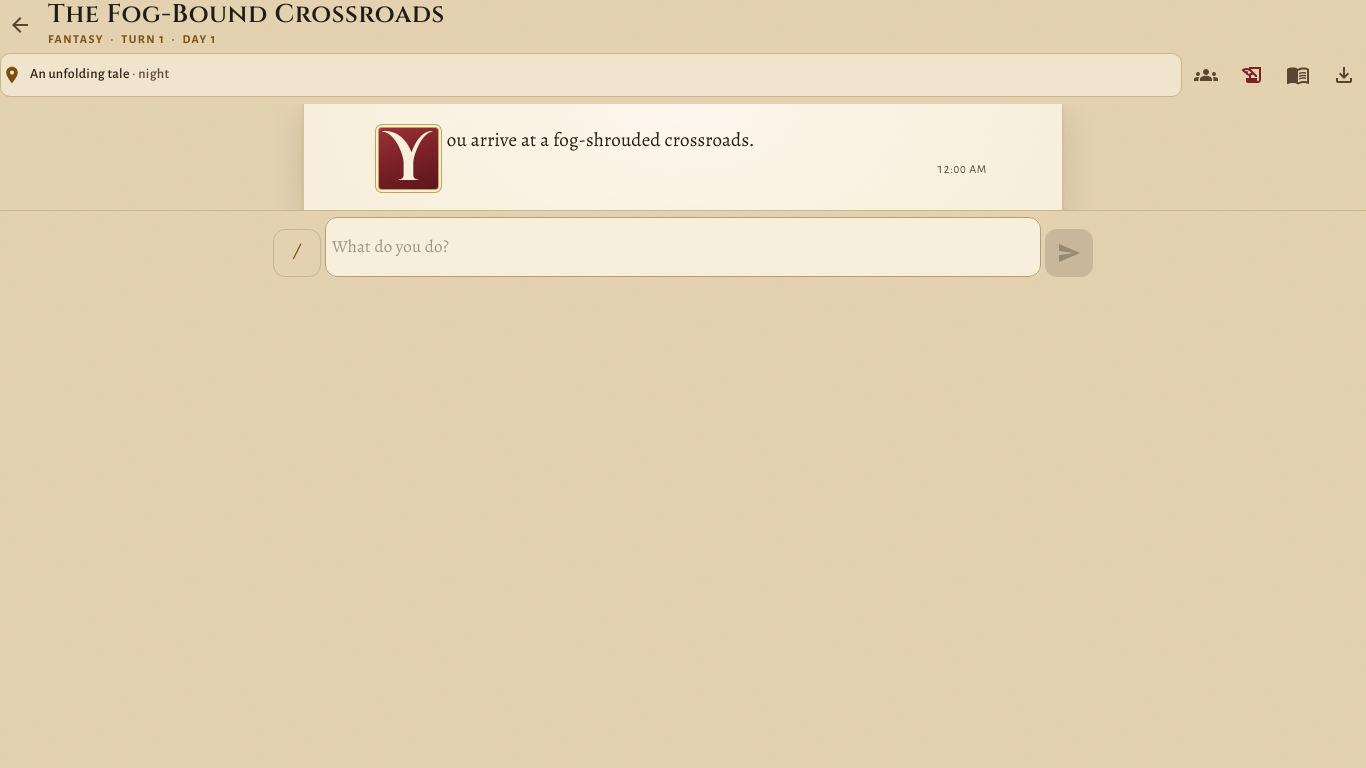
StoryPlay Bookify › shows a Share button when navigator.share exists
The image size is (1366, 768).
Expected: the text box with placeholder "What do you do?" is shown, top-left (332, 222), bottom-right (1034, 272)
Click the button named "bookify": (1298, 75) top-left (1276, 53), bottom-right (1320, 97)
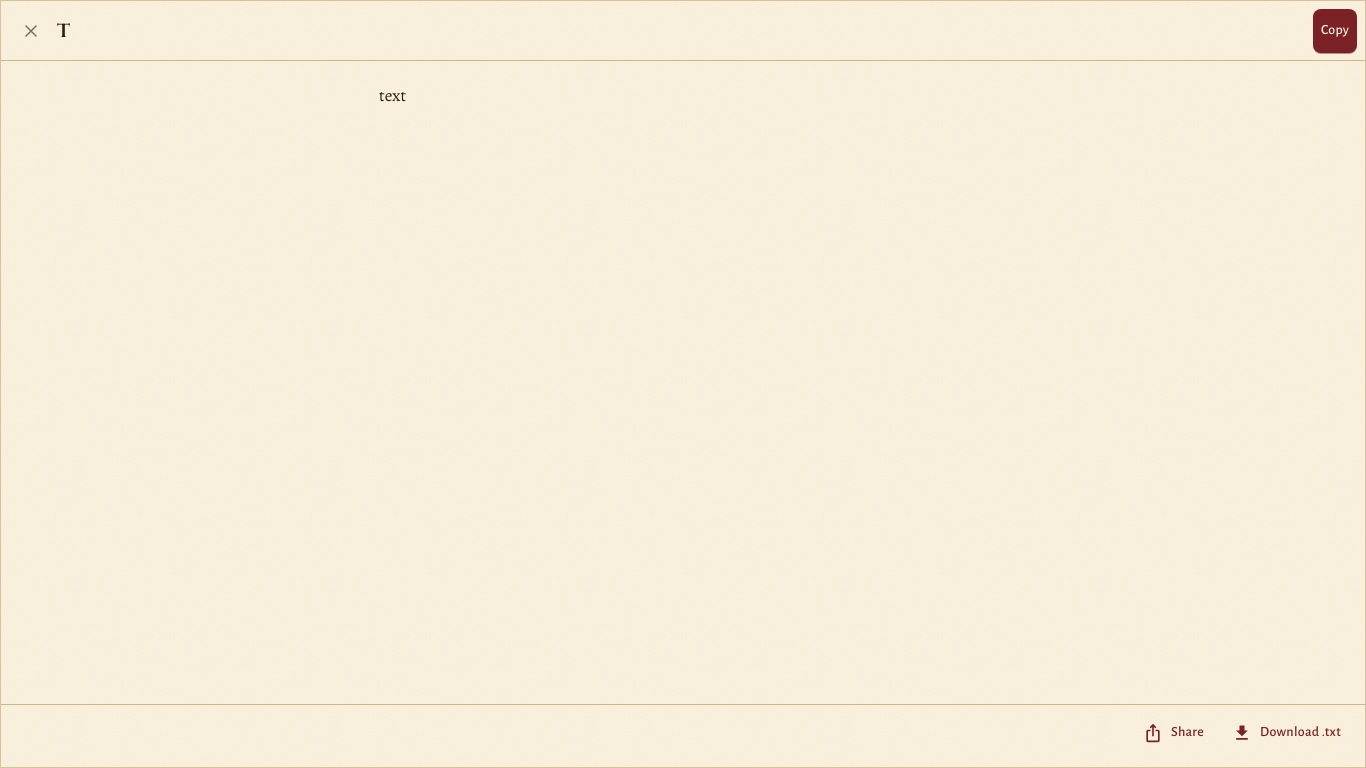
Expected: the text "text" is shown, top-left (379, 84), bottom-right (406, 107)
Expected: the button "Share" is shown, top-left (1131, 711), bottom-right (1220, 755)
